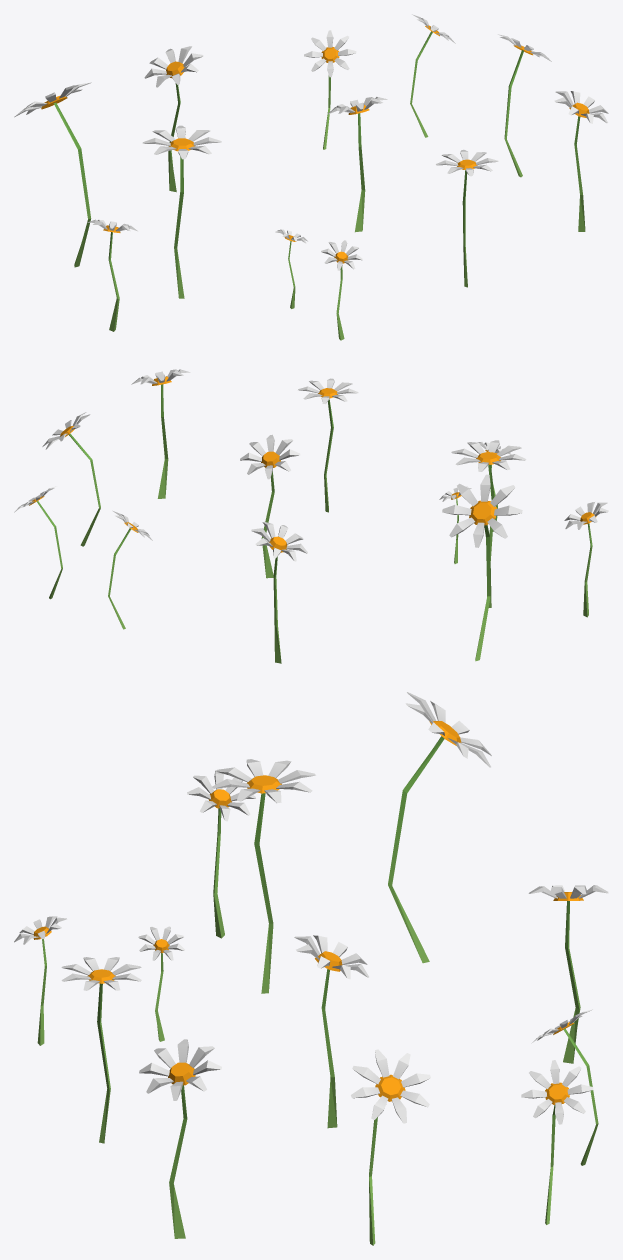
Rendered from flower_daisy.glb.
3 views of the same model, one above another, from view 1: azimuth 30°, elevation 25°; view 2: azimuth 150°, elevation 25°; view 3: azimuth 270°, elevation 25° (orthographic). The views are drawn at different scales.
Parts seen in each view (by area): view 1: flower_daisy; view 2: flower_daisy; view 3: flower_daisy.
Boxes of the visible parts, x1,y1,x2,y2 form: flower_daisy: (14, 14, 608, 340); flower_daisy: (14, 369, 608, 663); flower_daisy: (14, 692, 608, 1245).
Size of the model in its own units: 1.01 by 0.35 by 0.7405.
1 material, 1 textured.
